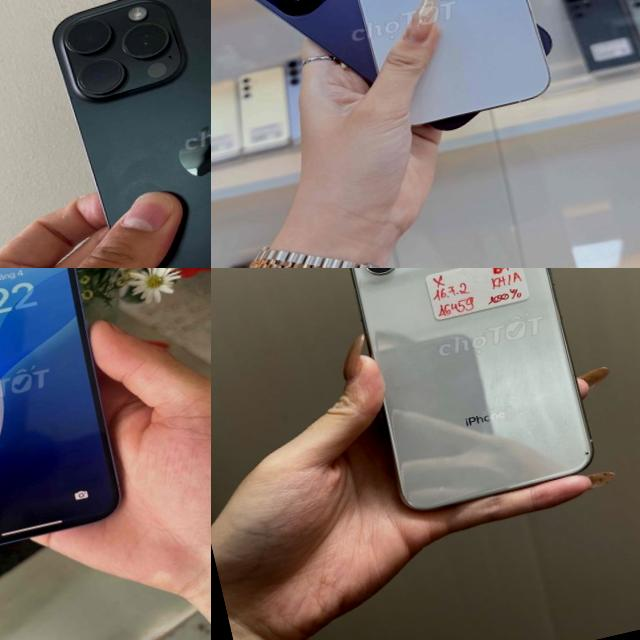gen_14: (325, 0, 563, 143)
gen_15: (16, 0, 211, 268)
gen_16: (0, 268, 118, 543)
gen_x_xs: (330, 268, 605, 521)
